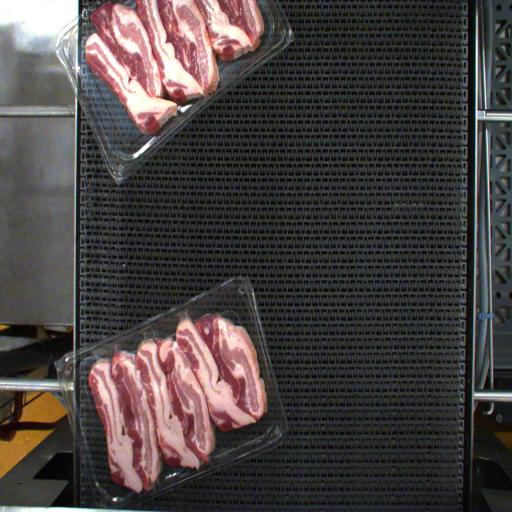packaging-error: (172, 299, 193, 330), (84, 347, 104, 366)
